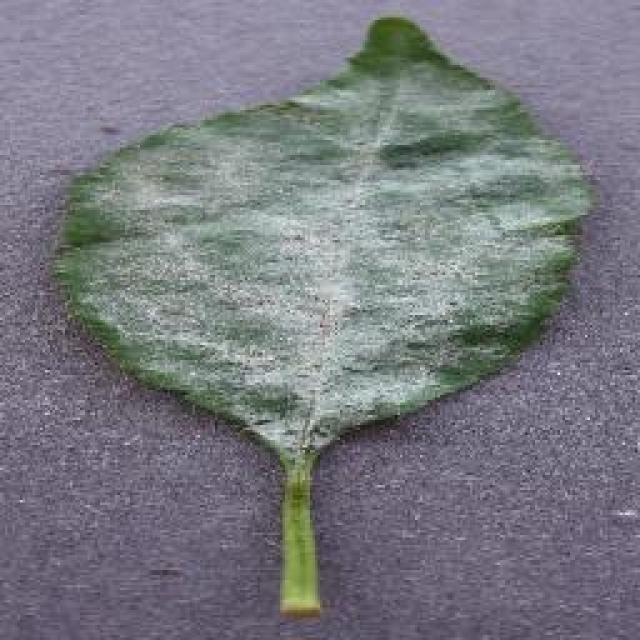Cherry___Powdery_mildew: (87, 96, 541, 438)
